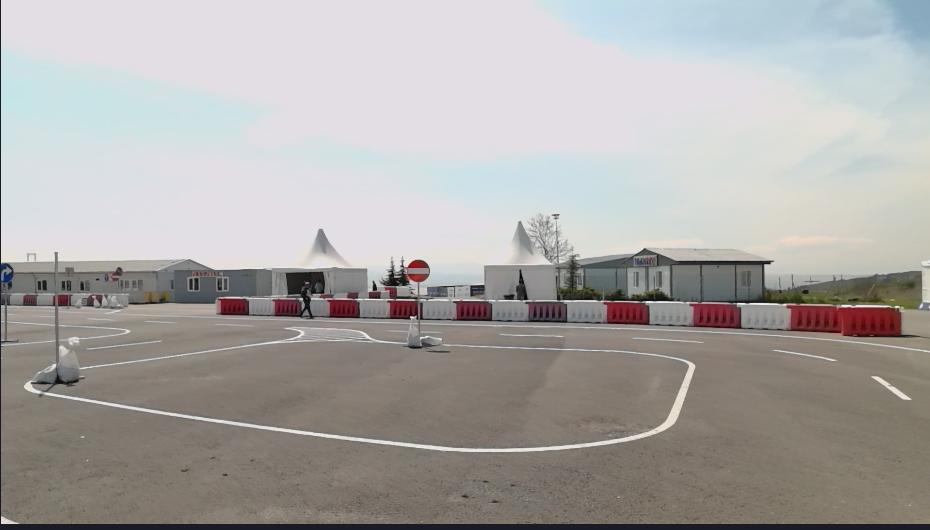nesne: (0, 320, 928, 528), (0, 342, 662, 528), (422, 326, 928, 529), (21, 338, 699, 452), (310, 297, 904, 335), (421, 320, 928, 352), (82, 325, 405, 370), (0, 320, 130, 347), (839, 305, 903, 336), (0, 292, 127, 307), (736, 301, 792, 330), (791, 302, 838, 335), (55, 335, 82, 381), (605, 300, 650, 326), (647, 301, 692, 327), (692, 304, 740, 327), (86, 336, 163, 350), (566, 301, 607, 323), (873, 375, 910, 398), (492, 300, 529, 322), (530, 301, 568, 322), (298, 279, 317, 320), (456, 300, 493, 321), (774, 347, 834, 359), (423, 301, 457, 320), (388, 300, 421, 318), (215, 298, 249, 315), (357, 300, 389, 318), (31, 364, 57, 386), (406, 317, 424, 348), (407, 259, 430, 283), (331, 298, 359, 317), (246, 298, 276, 315), (273, 298, 299, 317), (496, 331, 564, 338), (633, 336, 702, 342), (310, 297, 329, 318), (105, 294, 127, 308), (1, 262, 14, 285), (0, 513, 19, 526), (422, 333, 442, 344), (70, 294, 88, 306), (86, 293, 104, 304), (21, 294, 37, 306), (36, 295, 55, 305), (53, 295, 72, 304), (11, 294, 24, 306), (0, 294, 11, 305)
